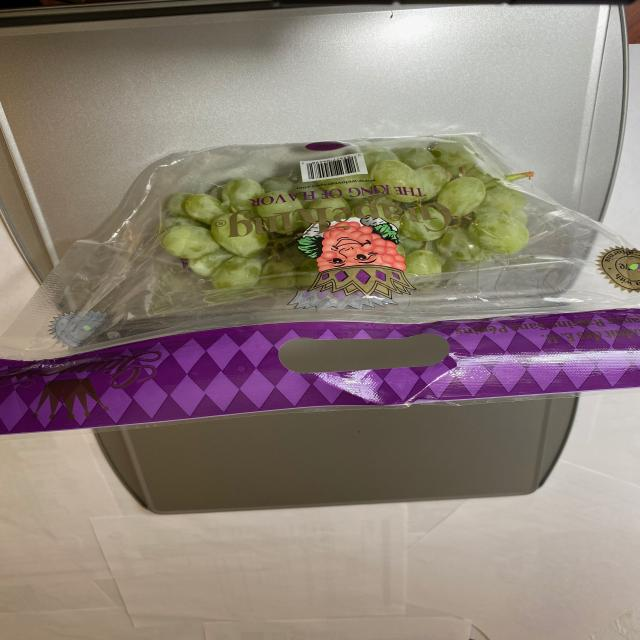grapes: (137, 142, 537, 312)
